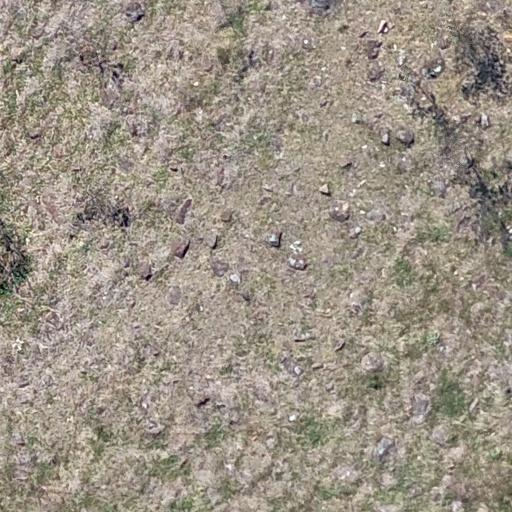stone: (327, 463, 365, 497), (188, 465, 222, 495), (215, 160, 242, 192), (99, 77, 124, 110), (409, 392, 433, 423), (444, 479, 472, 503), (39, 487, 69, 508), (373, 436, 396, 462), (12, 457, 34, 484), (250, 382, 274, 406), (360, 352, 386, 374), (437, 472, 459, 498), (174, 198, 193, 226), (123, 1, 146, 24), (76, 43, 99, 66), (365, 60, 387, 84), (422, 58, 446, 80), (327, 201, 351, 222), (430, 424, 452, 446), (115, 154, 137, 175), (455, 213, 475, 236), (209, 257, 230, 278), (363, 39, 384, 60), (170, 238, 190, 260), (395, 127, 418, 146), (325, 402, 349, 420), (430, 177, 448, 198), (166, 284, 183, 306), (8, 46, 28, 64), (165, 44, 185, 62), (259, 46, 276, 67), (365, 207, 387, 223), (222, 407, 240, 425), (287, 255, 307, 271), (214, 166, 226, 192), (284, 181, 302, 198), (350, 243, 367, 261), (471, 273, 488, 291), (10, 430, 27, 448), (475, 112, 491, 130), (138, 262, 154, 280), (307, 74, 324, 90), (266, 232, 282, 248), (348, 302, 364, 318), (314, 182, 331, 196), (461, 152, 475, 169), (11, 337, 25, 353), (293, 333, 315, 343), (289, 240, 303, 255), (129, 122, 142, 138), (456, 112, 472, 125), (301, 37, 317, 50), (220, 208, 234, 222), (296, 110, 310, 124), (195, 396, 211, 408), (377, 20, 390, 34), (208, 233, 219, 249), (246, 49, 256, 66), (178, 457, 190, 471), (258, 195, 272, 207), (334, 339, 346, 352), (349, 226, 362, 238), (16, 378, 30, 389), (28, 131, 43, 141), (240, 291, 252, 303), (439, 38, 451, 50), (380, 132, 390, 146), (229, 273, 241, 284), (398, 50, 406, 65), (402, 102, 412, 113), (293, 365, 303, 376), (340, 160, 352, 169), (311, 362, 324, 370), (262, 185, 274, 193), (196, 303, 205, 313), (215, 401, 226, 409), (225, 463, 234, 472), (358, 30, 368, 38), (351, 113, 358, 124), (169, 166, 179, 173), (288, 414, 296, 422), (141, 401, 148, 409), (508, 386, 512, 396), (193, 81, 199, 87)
